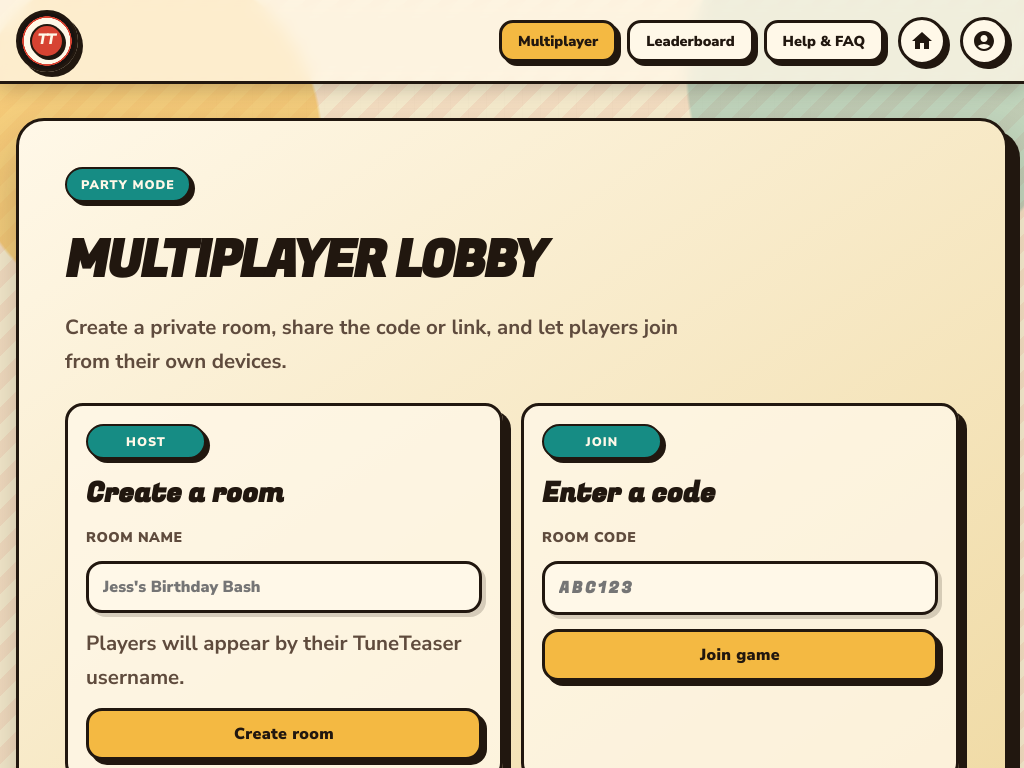
Multiplayer page › creates a room, stores the room name, and navigates into the lobby route
The width and height of the screenshot is (1024, 768).
Click the button "Create room": (284, 734) [86,708,482,760]
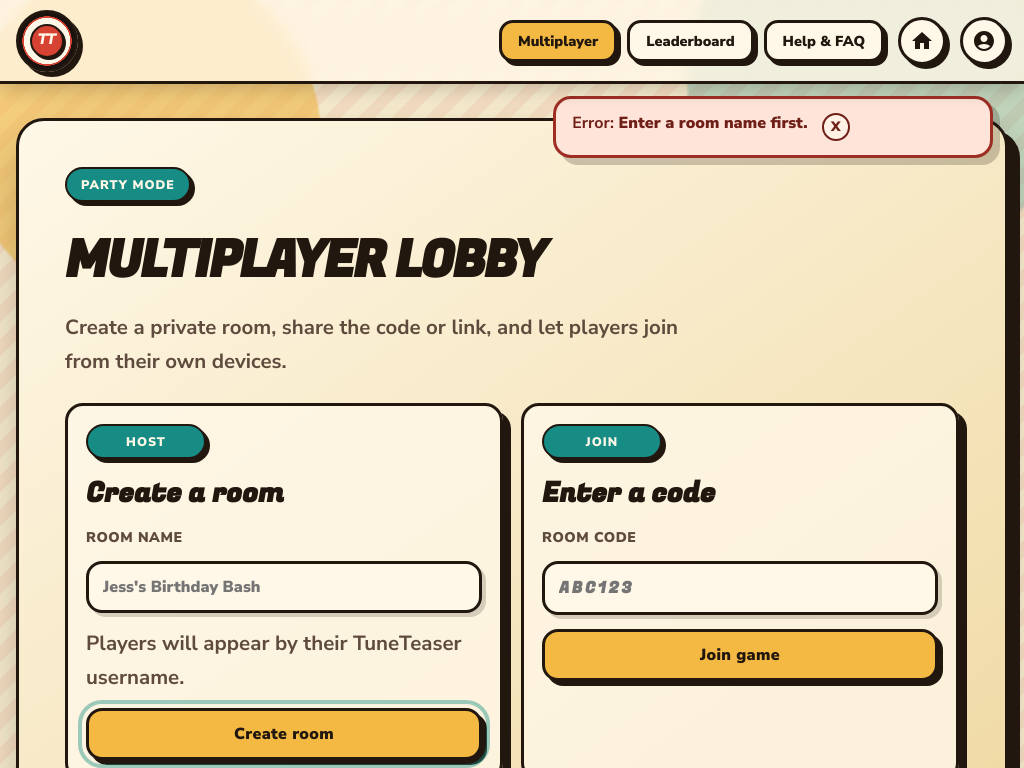
expect the text "Error: Enter a room name first." is shown: met, box [572,113,808,135]
In the field labelled "Room name": (284, 587) [86,561,482,613], type "Friday Party"
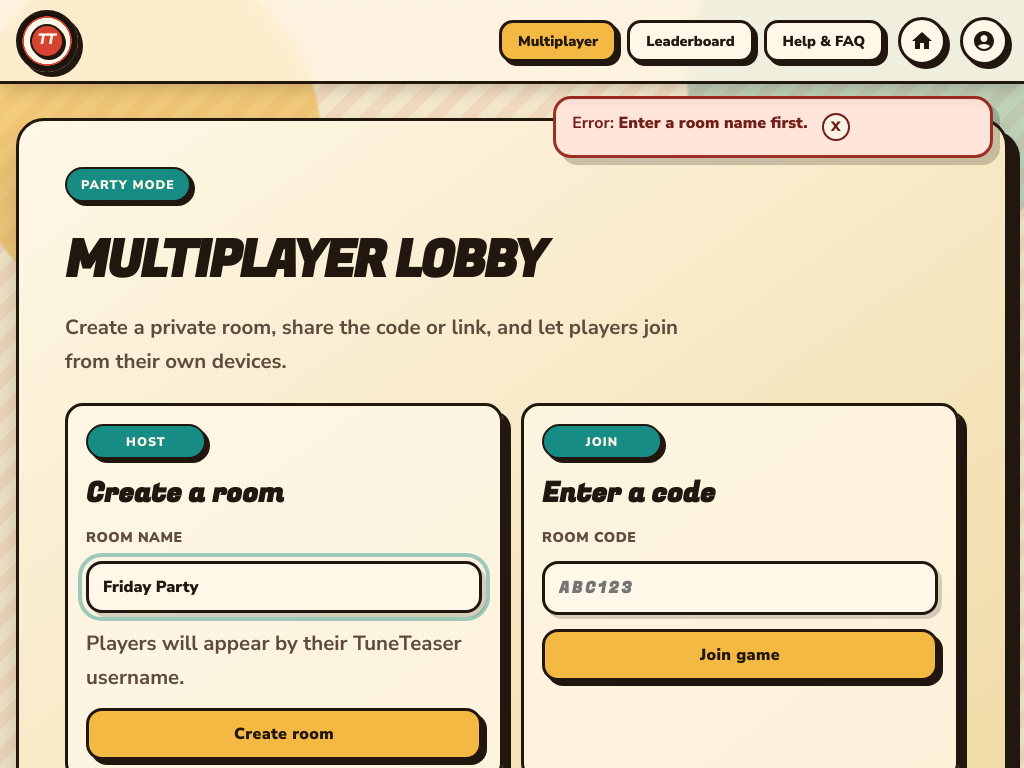
Click the button "Create room": (284, 734) [86,708,482,760]
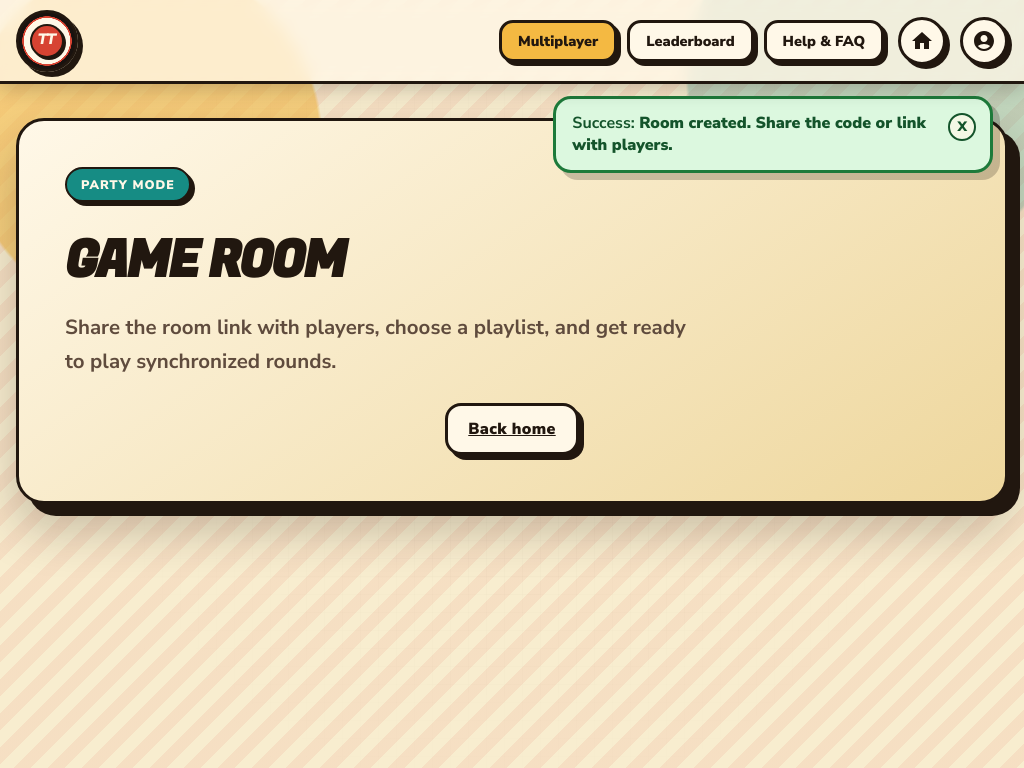
expect the text "Success: Room created. Share the code or link with players." is shown: met, box [572,113,934,156]
